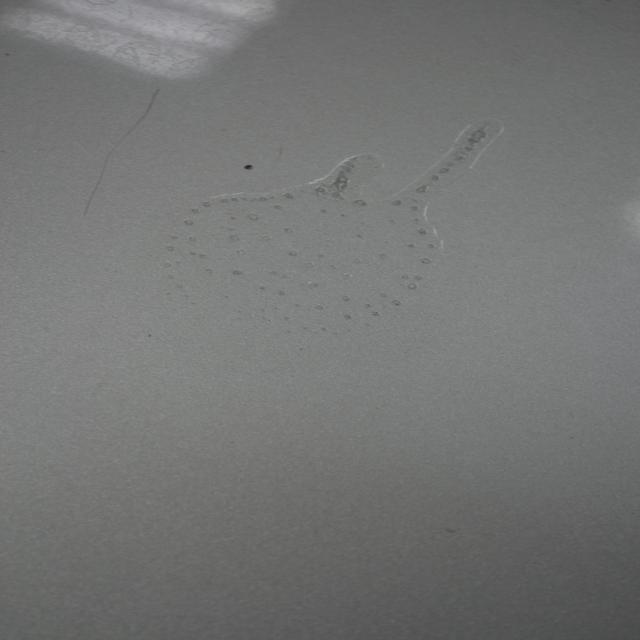dirt: (240, 161, 258, 172)
runs: (155, 123, 503, 351)
scratch: (76, 85, 165, 224)
water marks: (14, 12, 168, 76), (154, 3, 281, 73)
